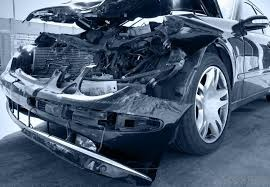Broken-glass: (82, 57, 176, 92)
Smashed: (1, 8, 226, 148)
